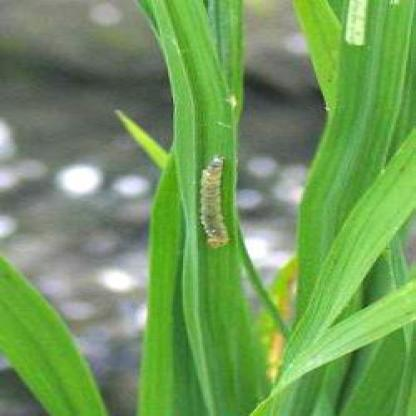leaf-folder: (184, 146, 249, 256)
